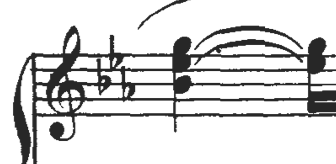flat: (105, 29, 126, 72), (119, 62, 139, 106), (94, 55, 112, 99)
treble_clef: (39, 22, 91, 149)
